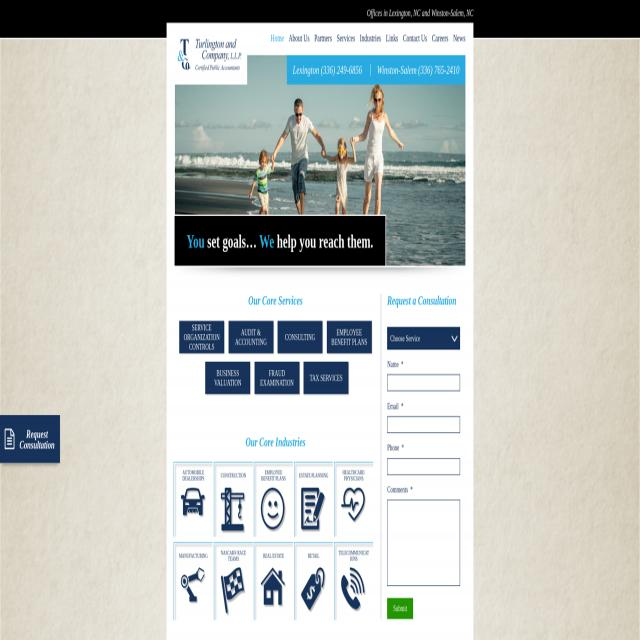button: (294, 542, 334, 621), (174, 544, 214, 622), (214, 543, 254, 620), (334, 543, 374, 620), (214, 462, 254, 538), (254, 544, 294, 620), (173, 463, 213, 538), (334, 461, 374, 536), (294, 462, 334, 535), (1, 416, 61, 463), (256, 463, 293, 537), (177, 38, 241, 72), (387, 327, 460, 351), (228, 321, 274, 354), (278, 321, 323, 354), (180, 321, 224, 354), (254, 362, 300, 393), (304, 362, 348, 394), (327, 321, 372, 352), (205, 363, 250, 393), (400, 28, 430, 49), (286, 28, 312, 49), (387, 598, 413, 619), (358, 28, 383, 49), (334, 28, 358, 49), (312, 28, 334, 49), (429, 28, 451, 49), (268, 28, 286, 49), (384, 28, 401, 49), (451, 28, 465, 49)
field: (387, 498, 460, 586), (388, 374, 460, 392), (388, 416, 460, 434), (388, 458, 460, 475)
